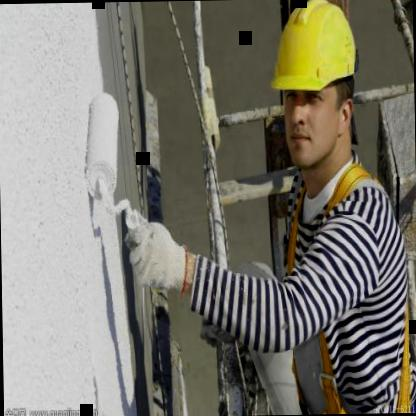helmet: (264, 0, 375, 188)
